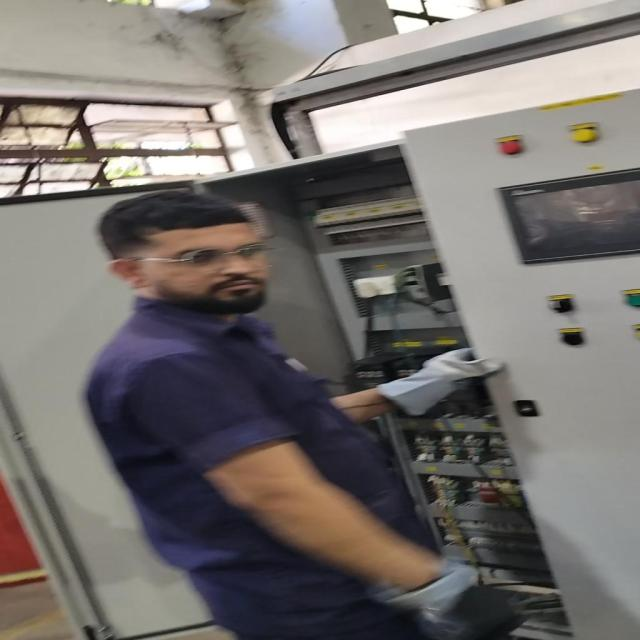Gloves-Detection: (366, 346, 509, 427), (380, 563, 512, 634)
